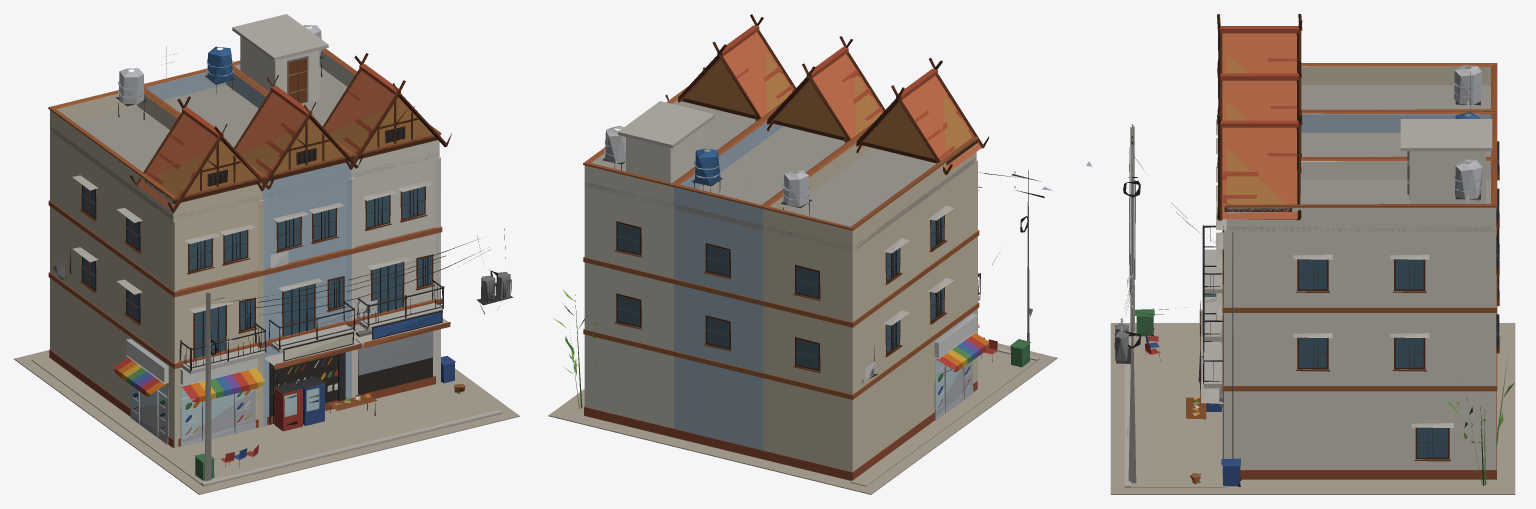
The model's file is shop_3.glb.
The picture shows the model from 3 angles, left to right: view 1: azimuth 30°, elevation 25°; view 2: azimuth 150°, elevation 25°; view 3: azimuth 270°, elevation 25°; orthographic projection. The views are drawn at different scales.
Parts seen in each view (by area): view 1: body, windows; view 2: body, windows; view 3: body, windows.
Boxes of the visible parts, x1=… form: body: x1=14, y1=14, x2=519, y2=494; windows: x1=82, y1=126, x2=432, y2=416; body: x1=548, y1=14, x2=1057, y2=494; windows: x1=617, y1=215, x2=944, y2=369; body: x1=1086, y1=14, x2=1515, y2=494; windows: x1=1299, y1=210, x2=1497, y2=457.
Bounding box in the file's own units: 16.46 × 15.23 × 17.14.
